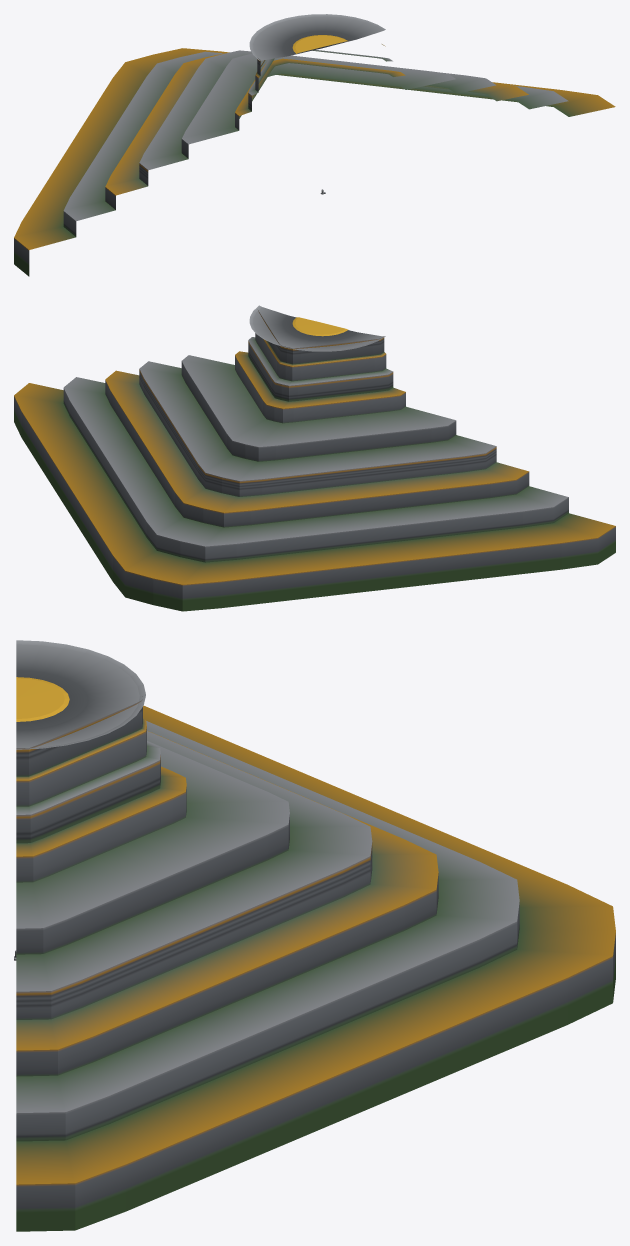
The model's file is temple-s1-DziSD5yJ.glb.
3 renders of one model, top to bottom at view 1: azimuth 30°, elevation 25°; view 2: azimuth 150°, elevation 25°; view 3: azimuth 270°, elevation 25°, orthographic. The views are drawn at different scales.
Parts seen in each view (by area): view 1: sc_landmark_0; view 2: sc_landmark_0; view 3: sc_landmark_0.
Part boxes in pixels (left/top/right/bottom): sc_landmark_0: left=14, top=14, right=615, bottom=276; sc_landmark_0: left=14, top=305, right=615, bottom=611; sc_landmark_0: left=16, top=640, right=615, bottom=1231.
Bounding box in the file's own units: 758 × 198 × 381.
